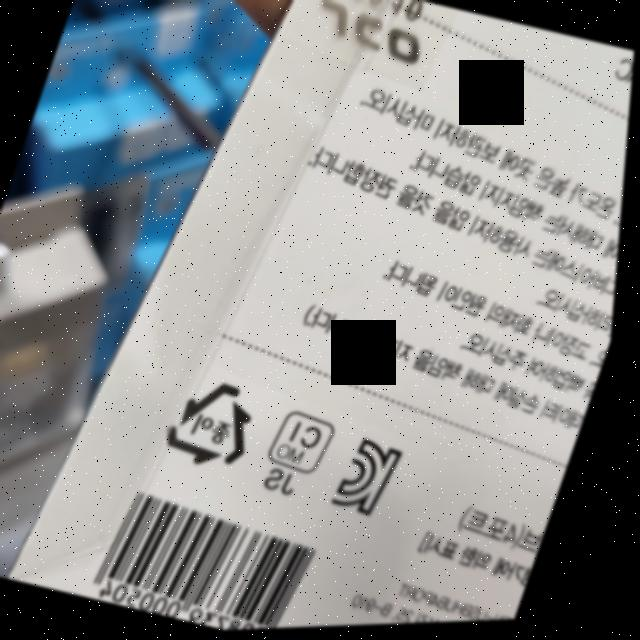Paper: (164, 370, 277, 481)
